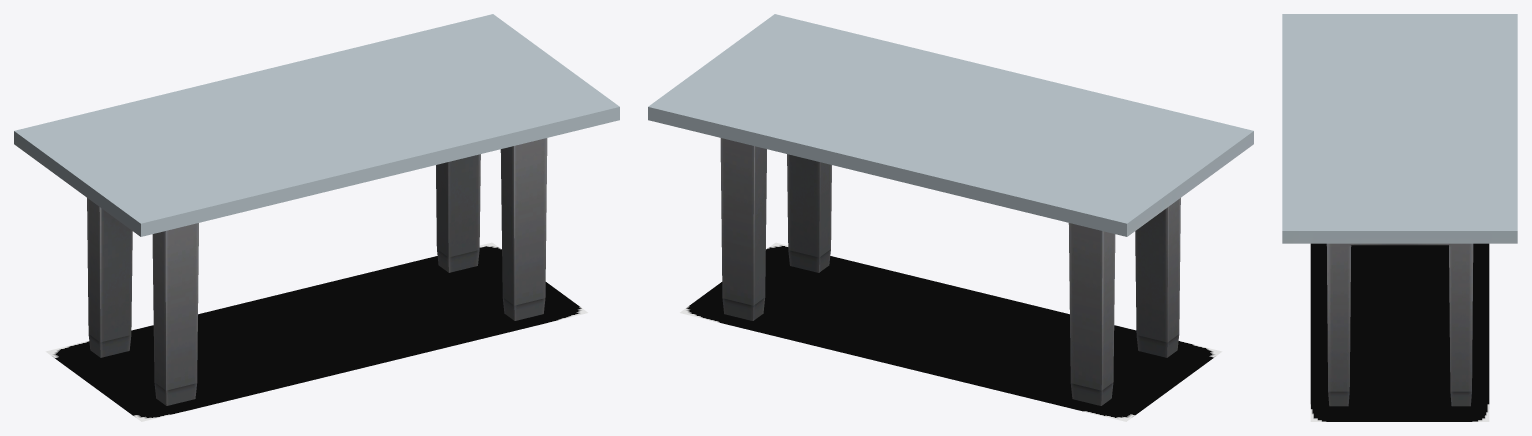
The model's file is jj_ty_chaji02.FBX.
The picture shows the model from 3 angles, left to right: view 1: azimuth 30°, elevation 25°; view 2: azimuth 150°, elevation 25°; view 3: azimuth 270°, elevation 25°; orthographic projection. The views are drawn at different scales.
Visible parts, largest first — view 1: jj_ty_chaji02, shadow; view 2: jj_ty_chaji02, shadow; view 3: jj_ty_chaji02, shadow.
Part boxes in pixels (bbox=[...]): jj_ty_chaji02: bbox=[14, 14, 619, 405]; shadow: bbox=[45, 242, 587, 421]; jj_ty_chaji02: bbox=[648, 14, 1253, 405]; shadow: bbox=[680, 242, 1222, 421]; jj_ty_chaji02: bbox=[1282, 14, 1517, 406]; shadow: bbox=[1310, 243, 1489, 421].
Bounding box in the file's own units: 240 × 103 × 110.
